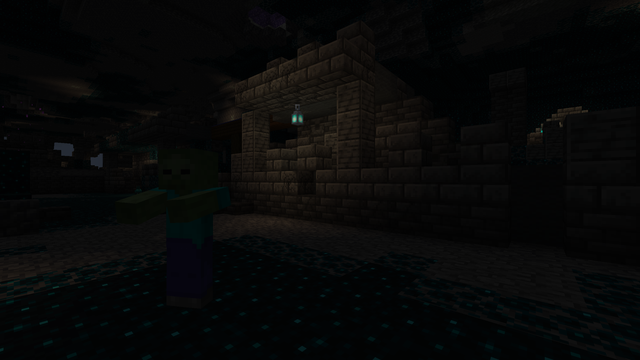zombies: (156, 151, 222, 319)
